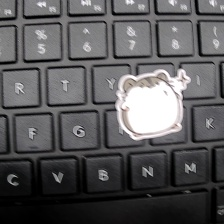mouse: (113, 67, 192, 142)
